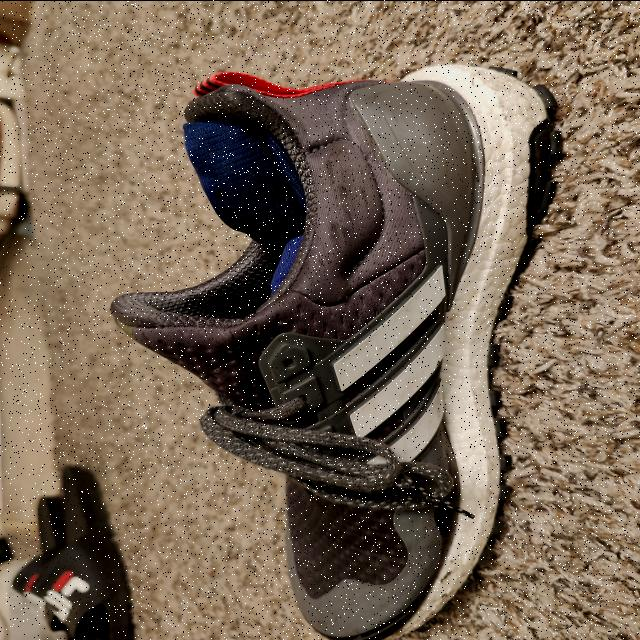black shoes: (109, 67, 538, 640)
